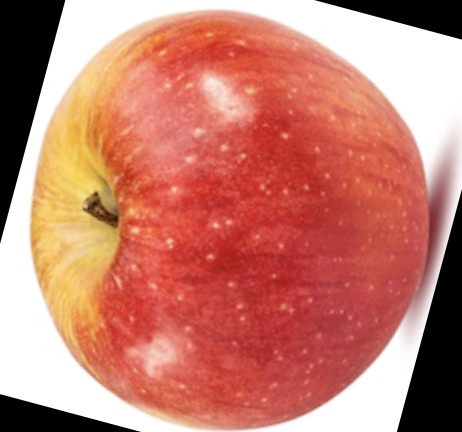fresh_apple: (35, 12, 429, 424)
